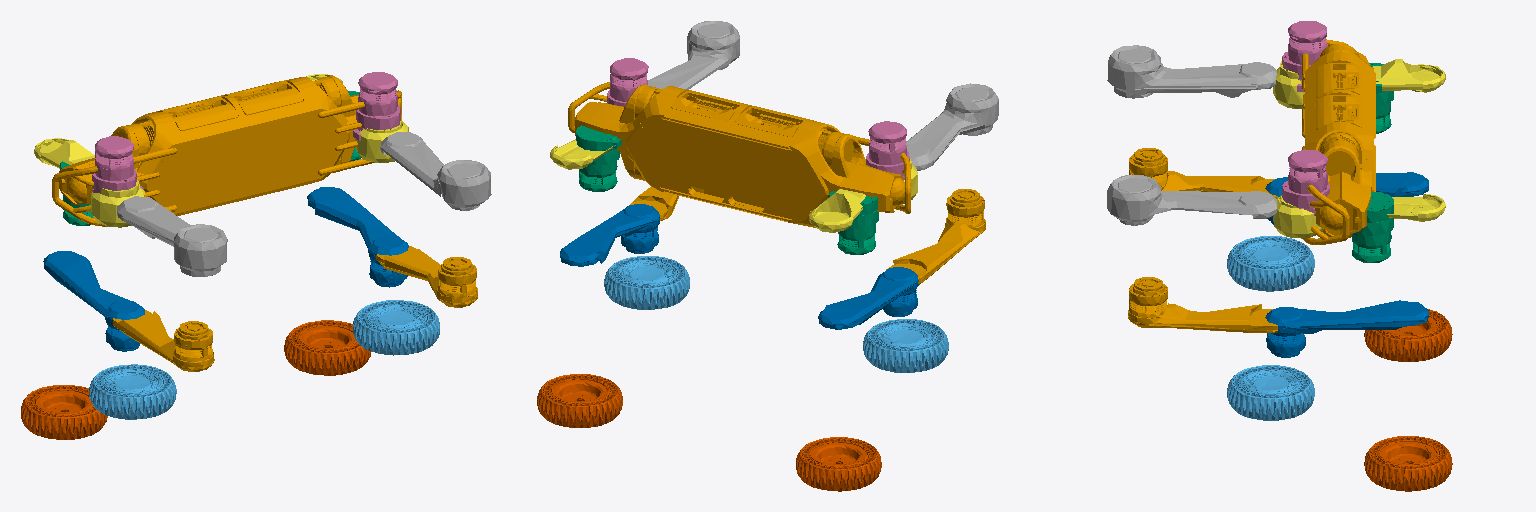
robot.urdf — CA9W:
<?xml version='1.0' encoding='utf-8'?>
<robot name="CA9W">
    <link name="TORSO">
        <inertial>
            <origin xyz="0 0 0" rpy="0 0 0"/>
            <mass value="1e-5"/>
            <inertia ixx="0" ixy="0" ixz="0" iyy="0" iyz="0" izz="0"/>
        </inertial>
        <visual>
            <origin xyz="0 0 0" rpy="-1.5708 0 0"/>
            <geometry>
                <mesh filename="../meshes/base_link.stl"/>
            </geometry>
        </visual>
        <collision>
            <origin xyz="0 0 0" rpy="0 0 0"/>
            <geometry>
                <box size="0.75 0.09 0.14"/>
            </geometry>
        </collision>
        <collision>
            <origin xyz="0 0.045 0" rpy="0 1.57079632 0"/>
            <geometry>
                <cylinder length="0.75" radius="0.07"/>
            </geometry>
        </collision>
        <collision>
            <origin xyz="0 -0.045 0" rpy="0 1.57079632 0"/>
            <geometry>
                <cylinder length="0.75" radius="0.07"/>
            </geometry>
        </collision>
    </link>

    <link name="INERTIA">
        <inertial>
            <origin xyz="-0.0004417 -0.007428 -0.001641" rpy="0 0 0"/>
            <mass value="14.5"/>
            <inertia ixx="0.02347" ixy="-0.0001019" ixz="2.493E-5" iyy="0.07120" iyz="0.0001274" izz="0.07795"/>
        </inertial>
    </link>

    <!--*************** Front Left Leg ***************-->
    <link name="FL_HIP">
        <inertial>
            <origin xyz="-0.0008982 0.06392 -0.0006497" rpy="0 0 0"/>
            <mass value="1.183"/>
            <inertia ixx="8.781E-4" ixy="1.562E-4" ixz="-3.009E-6" iyy="2.001E-3" iyz="-6.154E-6" izz="1.955E-3"/>
        </inertial>
        <visual>
            <origin xyz="0 0 0" rpy="-1.5708 0 0"/>
            <geometry>
                <mesh filename="../meshes/fl_hip.stl"/>
            </geometry>
        </visual>
    </link>
    <joint name="FL_HipX_joint" type="revolute">
        <origin xyz="0.31225 0.065 0" rpy="0 0 0"/>
        <parent link="TORSO"/>
        <child link="FL_HIP"/>
        <axis xyz="-1 0 0"/>
        <dynamics damping="0" friction="0"/>
        <limit lower="-0.4363" upper="0.6109" effort="76.4" velocity="22.4"/>
    </joint>
    <link name="FL_THIGH">
        <inertial>
            <origin xyz="-0.002529 0.01398 -0.2063" rpy="0 0 0"/>
            <mass value="1.506"/>
            <inertia ixx="1.568E-2" ixy="-7.963E-5" ixz="1.644E-4" iyy="1.544E-2" iyz="-1.807E-3" izz="2.276E-3"/>
        </inertial>
        <visual>
            <origin xyz="0 0 0" rpy="-1.5708 0 0"/>
            <geometry>
                <mesh filename="../meshes/fl_thigh.stl"/>
            </geometry>
        </visual>
        <collision>
            <origin xyz="0 -0.03 0" rpy="1.57079632 0 0"/>
            <geometry>
                <cylinder length="0.1" radius="0.048"/>
            </geometry>
        </collision>
        <collision>
            <origin xyz="-0.01 0.005 -0.125" rpy="0 0 0"/>
            <geometry>
                <box size="0.07 0.02 0.25"/>
            </geometry>
        </collision>
        <collision>
            <origin xyz="0 0.005 -0.25" rpy="1.57079632 0 0"/>
            <geometry>
                <cylinder length="0.09" radius="0.05"/>
            </geometry>
        </collision>
    </link>
    <joint name="FL_HipY_joint" type="revolute">
        <origin xyz="0 0.104 0" rpy="0 0 0"/>
        <parent link="FL_HIP"/>
        <child link="FL_THIGH"/>
        <axis xyz="0 -1 0"/>
        <dynamics damping="0" friction="0"/>
        <limit lower="-2.2864" upper="2.583" effort="76.4" velocity="22.4"/>
    </joint>
    <link name="FL_SHANK">
        <inertial>
            <origin xyz="0.002171 0.01967 -0.1979" rpy="0 0 0"/>
            <mass value="1.244"/>
            <inertia ixx="8.156E-3" ixy="-6.974E-5" ixz="-3.069E-4" iyy="8.025E-3" iyz="9.843E-4" izz="1.676E-3"/>
        </inertial>
        <visual>
            <origin xyz="0 0 0" rpy="-1.5708 0 0"/>
            <geometry>
                <mesh filename="../meshes/fl_shank.stl"/>
            </geometry>
        </visual>
        <collision>
            <origin xyz="0.015 0.0025 -0.125" rpy="0 0 0"/>
            <geometry>
                <box size="0.06 0.025 0.25"/>
            </geometry>
        </collision>
        <collision>
            <origin xyz="0 0.04 -0.25" rpy="1.57079632 0 0"/>
            <geometry>
                <cylinder length="0.1" radius="0.04"/>
            </geometry>
        </collision>
    </link>
    <joint name="FL_Knee_joint" type="revolute">
        <origin xyz="0 -0.0286 -0.25" rpy="0 0 0"/>
        <parent link="FL_THIGH"/>
        <child link="FL_SHANK"/>
        <axis xyz="0 -1 0"/>
        <dynamics damping="0" friction="0"/>
        <limit lower="-2.81" upper="2.793" effort="76.4" velocity="22.4"/>
    </joint>
    <link name="FL_WHEEL">
        <inertial>
            <origin xyz="0 0.0801 0" rpy="0 0 0"/>
            <mass value="1.429"/>
            <inertia ixx="3.173E-3" ixy="2.433E-6" ixz="-8.15E-7" iyy="4.606E-3" iyz="1.772E-6" izz="3.177E-3"/>
        </inertial>
        <visual>
            <origin xyz="0 0 0" rpy="-1.5708 0 0"/>
            <geometry>
                <mesh filename="../meshes/l_wheel.stl"/>
            </geometry>
        </visual>
        <collision>
            <origin xyz="0 0.08 0" rpy="1.57079632 0 0"/>
            <geometry>
                <cylinder length="0.054" radius="0.09"/>
            </geometry>
        </collision>
    </link>
    <joint name="FL_Wheel_joint" type="revolute">
        <origin xyz="0 0 -0.25" rpy="0 0 0"/>
        <parent link="FL_SHANK"/>
        <child link="FL_WHEEL"/>
        <axis xyz="0 -1 0"/>
        <limit effort="21.6" velocity="79.3" lower="-999999" upper="999999"/>
    </joint>

    <!--*************** Front Right Leg ***************-->
    <link name="FR_HIP">
        <inertial>
            <origin xyz="-0.0008982 -0.06392 -0.0006497" rpy="0 0 0"/>
            <mass value="1.183"/>
            <inertia ixx="8.781E-4" ixy="-1.562E-4" ixz="-3.009E-6" iyy="2.001E-3" iyz="6.154E-6" izz="1.955E-3"/>
        </inertial>
        <visual>
            <origin xyz="0 0 0" rpy="-1.5708 0 0"/>
            <geometry>
                <mesh filename="../meshes/fr_hip.stl"/>
            </geometry>
        </visual>
    </link>
    <joint name="FR_HipX_joint" type="revolute">
        <origin xyz="0.31225 -0.065 0" rpy="0 0 0"/>
        <parent link="TORSO"/>
        <child link="FR_HIP"/>
        <axis xyz="-1 0 0"/>
        <dynamics damping="0" friction="0"/>
        <limit lower="-0.6109" upper="0.4363" effort="76.4" velocity="22.4"/>
    </joint>
    <link name="FR_THIGH">
        <inertial>
            <origin xyz="-0.002529 -0.01398 -0.2063" rpy="0 0 0"/>
            <mass value="1.506"/>
            <inertia ixx="1.568E-2" ixy="7.963E-5" ixz="1.644E-4" iyy="1.544E-2" iyz="1.807E-3" izz="2.276E-3"/>
        </inertial>
        <visual>
            <origin xyz="0 0 0" rpy="-1.5708 0 0"/>
            <geometry>
                <mesh filename="../meshes/fr_thigh.stl"/>
            </geometry>
        </visual>
        <collision>
            <origin xyz="0 0.03 0" rpy="1.57079632 0 0"/>
            <geometry>
                <cylinder length="0.1" radius="0.048"/>
            </geometry>
        </collision>
        <collision>
            <origin xyz="-0.01 -0.005 -0.125" rpy="0 0 0"/>
            <geometry>
                <box size="0.07 0.02 0.25"/>
            </geometry>
        </collision>
        <collision>
            <origin xyz="0 -0.005 -0.25" rpy="1.57079632 0 0"/>
            <geometry>
                <cylinder length="0.09" radius="0.05"/>
            </geometry>
        </collision>
    </link>
    <joint name="FR_HipY_joint" type="revolute">
        <origin xyz="0 -0.104 0" rpy="0 0 0"/>
        <parent link="FR_HIP"/>
        <child link="FR_THIGH"/>
        <axis xyz="0 -1 0"/>
        <dynamics damping="0" friction="0"/>
        <limit lower="-2.2864" upper="2.583" effort="76.4" velocity="22.4"/>
    </joint>
    <link name="FR_SHANK">
        <inertial>
            <origin xyz="0.002171 -0.01967 -0.1979" rpy="0 0 0"/>
            <mass value="1.244"/>
            <inertia ixx="8.156E-3" ixy="6.974E-5" ixz="-3.069E-4" iyy="8.025E-3" iyz="-9.843E-4" izz="1.676E-3"/>
        </inertial>
        <visual>
            <origin xyz="0 0 0" rpy="-1.5708 0 0"/>
            <geometry>
                <mesh filename="../meshes/fr_shank.stl"/>
            </geometry>
        </visual>
        <collision>
            <origin xyz="0.015 -0.0025 -0.125" rpy="0 0 0"/>
            <geometry>
                <box size="0.06 0.025 0.25"/>
            </geometry>
        </collision>
        <collision>
            <origin xyz="0 -0.04 -0.25" rpy="1.57079632 0 0"/>
            <geometry>
                <cylinder length="0.1" radius="0.04"/>
            </geometry>
        </collision>
    </link>
    <joint name="FR_Knee_joint" type="revolute">
        <origin xyz="0 0.0286 -0.25" rpy="0 0 0"/>
        <parent link="FR_THIGH"/>
        <child link="FR_SHANK"/>
        <axis xyz="0 -1 0"/>
        <dynamics damping="0" friction="0"/>
        <limit lower="-2.81" upper="2.793" effort="76.4" velocity="22.4"/>
    </joint>
    <link name="FR_WHEEL">
        <inertial>
            <origin xyz="0 -0.0801 0" rpy="0 0 0"/>
            <mass value="1.429"/>
            <inertia ixx="3.173E-3" ixy="-2.433E-6" ixz="-8.15E-7" iyy="4.606E-3" iyz="-1.772E-6" izz="3.177E-3"/>
        </inertial>
        <visual>
            <origin xyz="0 0 0" rpy="-1.5708 0 0"/>
            <geometry>
                <mesh filename="../meshes/r_wheel.stl"/>
            </geometry>
        </visual>
        <collision>
            <origin xyz="0 -0.08 0" rpy="1.57079632 0 0"/>
            <geometry>
                <cylinder length="0.054" radius="0.09"/>
            </geometry>
        </collision>
    </link>
    <joint name="FR_Wheel_joint" type="revolute">
        <origin xyz="0 0 -0.25" rpy="0 0 0"/>
        <parent link="FR_SHANK"/>
        <child link="FR_WHEEL"/>
        <axis xyz="0 -1 0"/>
        <limit effort="21.6" velocity="79.3" lower="-999999" upper="999999"/>
    </joint>

    <!--*************** Hind Left Leg ***************-->
    <link name="HL_HIP">
        <inertial>
            <origin xyz="0.0008982 0.06392 -0.0006497" rpy="0 0 0"/>
            <mass value="1.183"/>
            <inertia ixx="8.781E-4" ixy="-1.562E-4" ixz="3.009E-6" iyy="2.001E-3" iyz="-6.154E-6" izz="1.955E-3"/>
        </inertial>
        <visual>
            <origin xyz="0 0 0" rpy="-1.5708 0 0"/>
            <geometry>
                <mesh filename="../meshes/hl_hip.stl"/>
            </geometry>
        </visual>
    </link>
    <joint name="HL_HipX_joint" type="revolute">
        <origin xyz="-0.31225 0.065 0" rpy="0 0 0"/>
        <parent link="TORSO"/>
        <child link="HL_HIP"/>
        <axis xyz="-1 0 0"/>
        <dynamics damping="0" friction="0"/>
        <limit lower="-0.4363" upper="0.6109" effort="76.4" velocity="22.4"/>
    </joint>
    <link name="HL_THIGH">
        <inertial>
            <origin xyz="0.002529 0.01398 -0.2063" rpy="0 0 0"/>
            <mass value="1.506"/>
            <inertia ixx="1.568E-2" ixy="7.963E-5" ixz="-1.644E-4" iyy="1.544E-2" iyz="-1.807E-3" izz="2.276E-3"/>
        </inertial>
        <visual>
            <origin xyz="0 0 0" rpy="-1.5708 0 0"/>
            <geometry>
                <mesh filename="../meshes/hl_thigh.stl"/>
            </geometry>
        </visual>
        <collision>
            <origin xyz="0 -0.03 0" rpy="1.57079632 0 0"/>
            <geometry>
                <cylinder length="0.1" radius="0.048"/>
            </geometry>
        </collision>
        <collision>
            <origin xyz="0.01 0.005 -0.125" rpy="0 0 0"/>
            <geometry>
                <box size="0.07 0.02 0.25"/>
            </geometry>
        </collision>
        <collision>
            <origin xyz="0 0.005 -0.25" rpy="1.57079632 0 0"/>
            <geometry>
                <cylinder length="0.09" radius="0.05"/>
            </geometry>
        </collision>
    </link>
    <joint name="HL_HipY_joint" type="revolute">
        <origin xyz="0 0.104 0" rpy="0 0 0"/>
        <parent link="HL_HIP"/>
        <child link="HL_THIGH"/>
        <axis xyz="0 -1 0"/>
        <dynamics damping="0" friction="0"/>
        <limit lower="-2.583" upper="2.2864" effort="76.4" velocity="22.4"/>
    </joint>
    <link name="HL_SHANK">
        <inertial>
            <origin xyz="-0.002171 0.01967 -0.1979" rpy="0 0 0"/>
            <mass value="1.244"/>
            <inertia ixx="8.156E-3" ixy="6.974E-5" ixz="3.069E-4" iyy="8.025E-3" iyz="9.843E-4" izz="1.676E-3"/>
        </inertial>
        <visual>
            <origin xyz="0 0 0" rpy="-1.5708 0 0"/>
            <geometry>
                <mesh filename="../meshes/hl_shank.stl"/>
            </geometry>
        </visual>
        <collision>
            <origin xyz="-0.015 0.0025 -0.125" rpy="0 0 0"/>
            <geometry>
                <box size="0.06 0.025 0.25"/>
            </geometry>
        </collision>
        <collision>
            <origin xyz="0 0.04 -0.25" rpy="1.57079632 0 0"/>
            <geometry>
                <cylinder length="0.1" radius="0.04"/>
            </geometry>
        </collision>
    </link>
    <joint name="HL_Knee_joint" type="revolute">
        <origin xyz="0 -0.0286 -0.25" rpy="0 0 0"/>
        <parent link="HL_THIGH"/>
        <child link="HL_SHANK"/>
        <axis xyz="0 -1 0"/>
        <dynamics damping="0" friction="0"/>
        <limit lower="-2.793" upper="2.81" effort="76.4" velocity="22.4"/>
    </joint>
    <link name="HL_WHEEL">
        <inertial>
            <origin xyz="0 0.0801 0" rpy="0 0 0"/>
            <mass value="1.429"/>
            <inertia ixx="3.173E-3" ixy="-2.433E-6" ixz="8.15E-7" iyy="4.606E-3" iyz="1.772E-6" izz="3.177E-3"/>
        </inertial>
        <visual>
            <origin xyz="0 0 0" rpy="-1.5708 0 0"/>
            <geometry>
                <mesh filename="../meshes/l_wheel.stl"/>
            </geometry>
        </visual>
        <collision>
            <origin xyz="0 0.08 0" rpy="1.57079632 0 0"/>
            <geometry>
                <cylinder length="0.054" radius="0.09"/>
            </geometry>
        </collision>
    </link>
    <joint name="HL_Wheel_joint" type="revolute">
        <origin xyz="0 0 -0.25" rpy="0 0 0"/>
        <parent link="HL_SHANK"/>
        <child link="HL_WHEEL"/>
        <axis xyz="0 -1 0"/>
        <limit effort="21.6" velocity="79.3" lower="-999999" upper="999999"/>
    </joint>

    <!--*************** Hind Right Leg ***************-->
    <link name="HR_HIP">
        <inertial>
            <origin xyz="0.0008982 -0.06392 -0.0006497" rpy="0 0 0"/>
            <mass value="1.183"/>
            <inertia ixx="8.781E-4" ixy="1.562E-4" ixz="3.009E-6" iyy="2.001E-3" iyz="6.154E-6" izz="1.955E-3"/>
        </inertial>
        <visual>
            <origin xyz="0 0 0" rpy="-1.5708 0 0"/>
            <geometry>
                <mesh filename="../meshes/hr_hip.stl"/>
            </geometry>
        </visual>
    </link>
    <joint name="HR_HipX_joint" type="revolute">
        <origin xyz="-0.31225 -0.065 0" rpy="0 0 0"/>
        <parent link="TORSO"/>
        <child link="HR_HIP"/>
        <axis xyz="-1 0 0"/>
        <dynamics damping="0" friction="0"/>
        <limit lower="-0.6109" upper="0.4363" effort="76.4" velocity="22.4"/>
        <!-- <safety_controller soft_upper_limit="1" soft_lower_limit="1" k_position="100" k_velocity="1"/> -->
    </joint>
    <link name="HR_THIGH">
        <inertial>
            <origin xyz="0.002529 -0.01398 -0.2063" rpy="0 0 0"/>
            <mass value="1.506"/>
            <inertia ixx="1.568E-2" ixy="-7.963E-5" ixz="-1.644E-4" iyy="1.544E-2" iyz="1.807E-3" izz="2.276E-3"/>
        </inertial>
        <visual>
            <origin xyz="0 0 0" rpy="-1.5708 0 0"/>
            <geometry>
                <mesh filename="../meshes/hr_thigh.stl"/>
            </geometry>
        </visual>
        <collision>
            <origin xyz="0 0.03 0" rpy="1.57079632 0 0"/>
            <geometry>
                <cylinder length="0.1" radius="0.048"/>
            </geometry>
        </collision>
        <collision>
            <origin xyz="0.01 0.005 -0.125" rpy="0 0 0"/>
            <geometry>
                <box size="0.07 0.02 0.25"/>
            </geometry>
        </collision>
        <collision>
            <origin xyz="0 -0.005 -0.25" rpy="1.57079632 0 0"/>
            <geometry>
                <cylinder length="0.09" radius="0.05"/>
            </geometry>
        </collision>
    </link>
    <joint name="HR_HipY_joint" type="revolute">
        <origin xyz="0 -0.104 0" rpy="0 0 0"/>
        <parent link="HR_HIP"/>
        <child link="HR_THIGH"/>
        <axis xyz="0 -1 0"/>
        <dynamics damping="0" friction="0"/>
        <limit lower="-2.583" upper="2.2864" effort="76.4" velocity="22.4"/>
    </joint>
    <link name="HR_SHANK">
        <inertial>
            <origin xyz="-0.002171 -0.01967 -0.1979" rpy="0 0 0"/>
            <mass value="1.244"/>
            <inertia ixx="8.156E-3" ixy="-6.974E-5" ixz="3.069E-4" iyy="8.025E-3" iyz="-9.843E-4" izz="1.676E-3"/>
        </inertial>
        <visual>
            <origin xyz="0 0 0" rpy="-1.5708 0 0"/>
            <geometry>
                <mesh filename="../meshes/hr_shank.stl"/>
            </geometry>
        </visual>
        <collision>
            <origin xyz="-0.015 -0.0025 -0.125" rpy="0 0 0"/>
            <geometry>
                <box size="0.06 0.025 0.25"/>
            </geometry>
        </collision>
        <collision>
            <origin xyz="0 -0.04 -0.25" rpy="1.57079632 0 0"/>
            <geometry>
                <cylinder length="0.1" radius="0.04"/>
            </geometry>
        </collision>
    </link>
    <joint name="HR_Knee_joint" type="revolute">
        <origin xyz="0 0.0286 -0.25" rpy="0 0 0"/>
        <parent link="HR_THIGH"/>
        <child link="HR_SHANK"/>
        <axis xyz="0 -1 0"/>
        <dynamics damping="0" friction="0"/>
        <limit lower="-2.793" upper="2.81" effort="76.4" velocity="22.4"/>
    </joint>
    <link name="HR_WHEEL">
        <inertial>
            <origin xyz="0 -0.0801 0" rpy="0 0 0"/>
            <mass value="1.429"/>
            <inertia ixx="3.173E-3" ixy="2.433E-6" ixz="8.15E-7" iyy="4.606E-3" iyz="-1.772E-6" izz="3.177E-3"/>
        </inertial>
        <visual>
            <origin xyz="0 0 0" rpy="-1.5708 0 0"/>
            <geometry>
                <mesh filename="../meshes/r_wheel.stl"/>
            </geometry>
        </visual>
        <collision>
            <origin xyz="0 -0.08 0" rpy="1.57079632 0 0"/>
            <geometry>
                <cylinder length="0.054" radius="0.09"/>
            </geometry>
        </collision>
    </link>
    <joint name="HR_Wheel_joint" type="revolute">
        <origin xyz="0 0 -0.25" rpy="0 0 0"/>
        <parent link="HR_SHANK"/>
        <child link="HR_WHEEL"/>
        <axis xyz="0 -1 0"/>
        <limit effort="21.6" velocity="79.3" lower="-999999" upper="999999"/>
    </joint>

    <joint name="Torso2Inertia" type="fixed">
        <parent link="TORSO"/>
        <child link="INERTIA"/>
    </joint>
</robot>

--- What the picture shows (computed from the rendered views, not written in the file) ---
3 views of the same robot in one strip: view 1: azimuth 30°, elevation 25°; view 2: azimuth 150°, elevation 25°; view 3: azimuth 270°, elevation 25° (orthographic).
Model CA9W with 18 links and 17 joints (16 revolute, 1 fixed), rooted at TORSO, posed all joints at 0.
Visible links, largest first — view 1: TORSO, HR_THIGH, FR_THIGH, FR_WHEEL, HR_WHEEL, FL_WHEEL, HL_WHEEL, FL_SHANK, HL_SHANK, HR_SHANK, FR_SHANK, HL_THIGH (+3 smaller); view 2: TORSO, HR_THIGH, HL_WHEEL, FL_WHEEL, FR_WHEEL, HR_WHEEL, FL_SHANK, HR_SHANK, HL_SHANK, FR_THIGH, FL_HIP, HL_THIGH (+5 smaller); view 3: TORSO, HR_THIGH, FR_THIGH, FL_SHANK, FR_SHANK, FR_WHEEL, HR_WHEEL, FL_WHEEL, HL_WHEEL, HR_SHANK, HL_THIGH, FL_THIGH (+5 smaller).
Boxes of the visible links, x1,y1,x2,y2 form: TORSO: [52, 75, 401, 226]; HR_THIGH: [117, 196, 227, 276]; FR_THIGH: [380, 132, 491, 210]; FR_WHEEL: [353, 300, 439, 355]; HR_WHEEL: [89, 364, 176, 419]; FL_WHEEL: [284, 320, 371, 375]; HL_WHEEL: [21, 385, 107, 439]; FL_SHANK: [307, 187, 408, 287]; HL_SHANK: [43, 251, 144, 351]; HR_SHANK: [113, 310, 214, 371]; FR_SHANK: [376, 246, 477, 307]; HL_THIGH: [34, 138, 144, 227]; TORSO: [568, 82, 910, 227]; HR_THIGH: [906, 83, 998, 170]; HL_WHEEL: [796, 437, 881, 491]; FL_WHEEL: [537, 374, 622, 427]; FR_WHEEL: [604, 256, 689, 309]; HR_WHEEL: [863, 319, 948, 372]; FL_SHANK: [560, 204, 659, 266]; HR_SHANK: [886, 189, 985, 284]; HL_SHANK: [818, 267, 918, 329]; FR_THIGH: [648, 21, 739, 89]; FL_HIP: [576, 125, 621, 191]; HL_THIGH: [809, 159, 917, 232]; TORSO: [1302, 39, 1375, 244]; HR_THIGH: [1107, 45, 1276, 98]; FR_THIGH: [1107, 174, 1276, 225]; FL_SHANK: [1265, 300, 1428, 357]; FR_SHANK: [1128, 277, 1277, 332]; FR_WHEEL: [1227, 365, 1314, 420]; HR_WHEEL: [1227, 236, 1314, 291]; FL_WHEEL: [1364, 436, 1452, 491]; HL_WHEEL: [1364, 309, 1452, 361]; HR_SHANK: [1129, 148, 1277, 197]; HL_THIGH: [1273, 59, 1445, 108]; FL_THIGH: [1273, 194, 1445, 238].
Size in the robot's own frame: 0.8262 by 0.7052 by 0.7201 metres.
17 mesh visuals loaded from 15 distinct referenced files (15 binary STL).